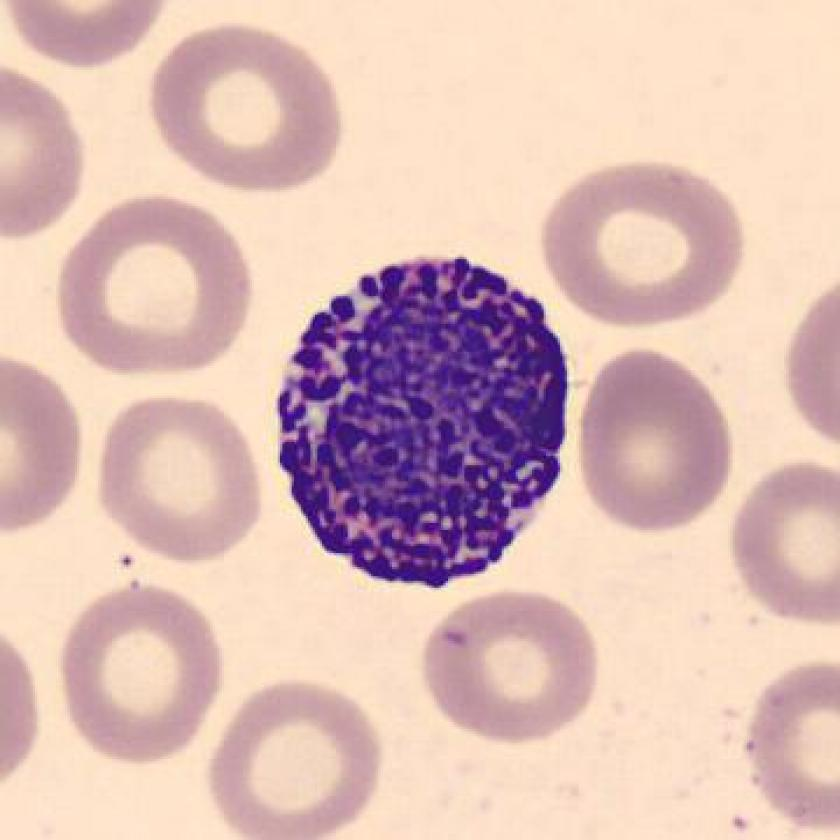basophil: (274, 244, 580, 591)
